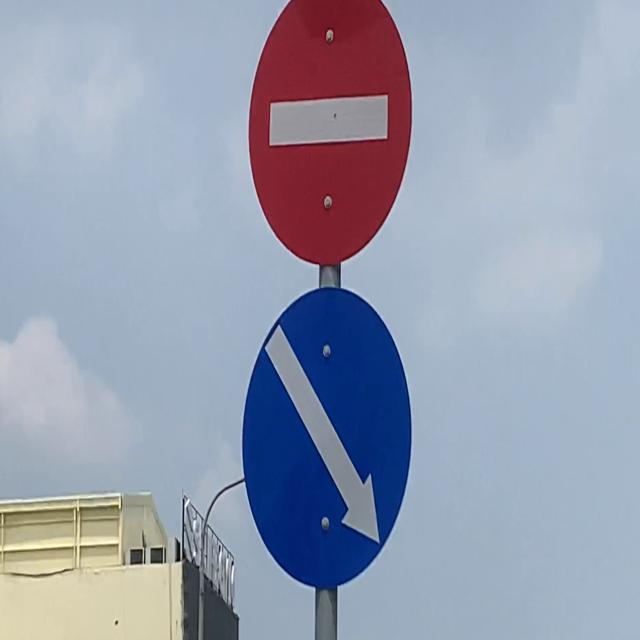Cam nguoc chieu: (244, 0, 418, 271)
Hieu lenh: (236, 277, 416, 598)
